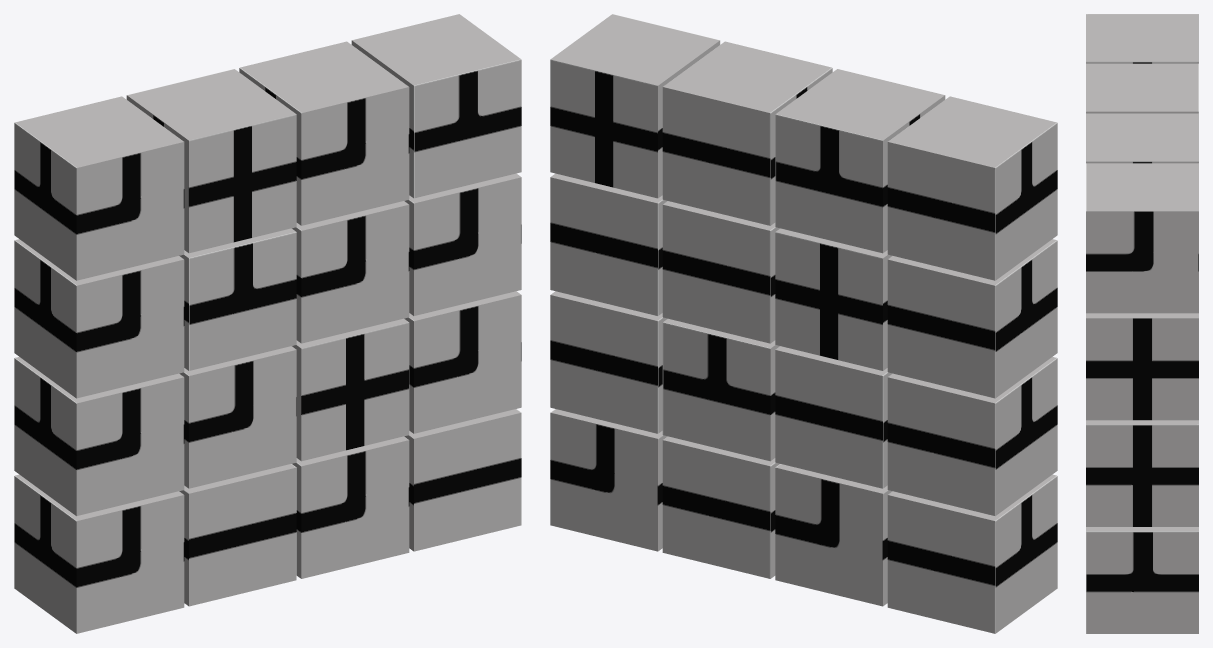
The model's file is wall_puzzle_low_poly_02.fbx.
3 renders of one model, left to right at view 1: azimuth 30°, elevation 25°; view 2: azimuth 150°, elevation 25°; view 3: azimuth 270°, elevation 25°, orthographic. The views are drawn at different scales.
Parts seen in each view (by area): view 1: cube_1_top_left, cube_13, cube_5, cube_9, cube_3, cube_4, cube_2, cube_11, cube_7, cube_15, cube_14, cube_10 (+4 smaller); view 2: cube_1_top_left, cube_13, cube_5, cube_9, cube_3, cube_4, cube_2, cube_11, cube_7, cube_15, cube_14, cube_10 (+4 smaller); view 3: cube_4, cube_8, cube_12, cube_16, cube_2, cube_3, cube_1_top_left.
Part boxes in pixels (box(x1,y1,x2,y2)): cube_1_top_left: box(14, 96, 184, 280); cube_13: box(14, 474, 184, 633); cube_5: box(14, 239, 184, 398); cube_9: box(14, 357, 184, 516); cube_3: box(239, 41, 409, 225); cube_4: box(351, 14, 521, 198); cube_2: box(126, 69, 296, 253); cube_11: box(292, 318, 409, 461); cube_7: box(292, 201, 409, 343); cube_15: box(292, 436, 409, 578); cube_14: box(179, 464, 296, 606); cube_10: box(179, 346, 296, 488); cube_1_top_left: box(887, 96, 1057, 280); cube_13: box(887, 474, 1057, 633); cube_5: box(887, 239, 1057, 398); cube_9: box(887, 357, 1057, 516); cube_3: box(662, 41, 832, 225); cube_4: box(550, 14, 720, 198); cube_2: box(775, 69, 945, 253); cube_11: box(662, 318, 779, 461); cube_7: box(662, 201, 779, 343); cube_15: box(662, 436, 779, 578); cube_14: box(775, 464, 892, 606); cube_10: box(775, 346, 892, 488); cube_4: box(1086, 163, 1198, 313); cube_8: box(1086, 313, 1198, 420); cube_12: box(1086, 420, 1198, 526); cube_16: box(1086, 527, 1198, 633); cube_2: box(1086, 63, 1198, 113); cube_3: box(1086, 113, 1198, 163); cube_1_top_left: box(1086, 14, 1198, 63).
Size of the model in its own units: 0.6199 by 0.6199 by 0.15.
Materials: 1 (1 with a texture image).
